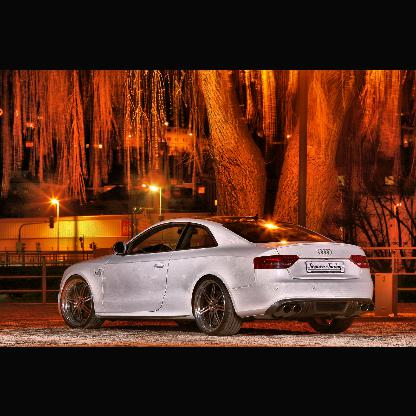Audi S5 Coupe 2012: (60, 217, 374, 336)
